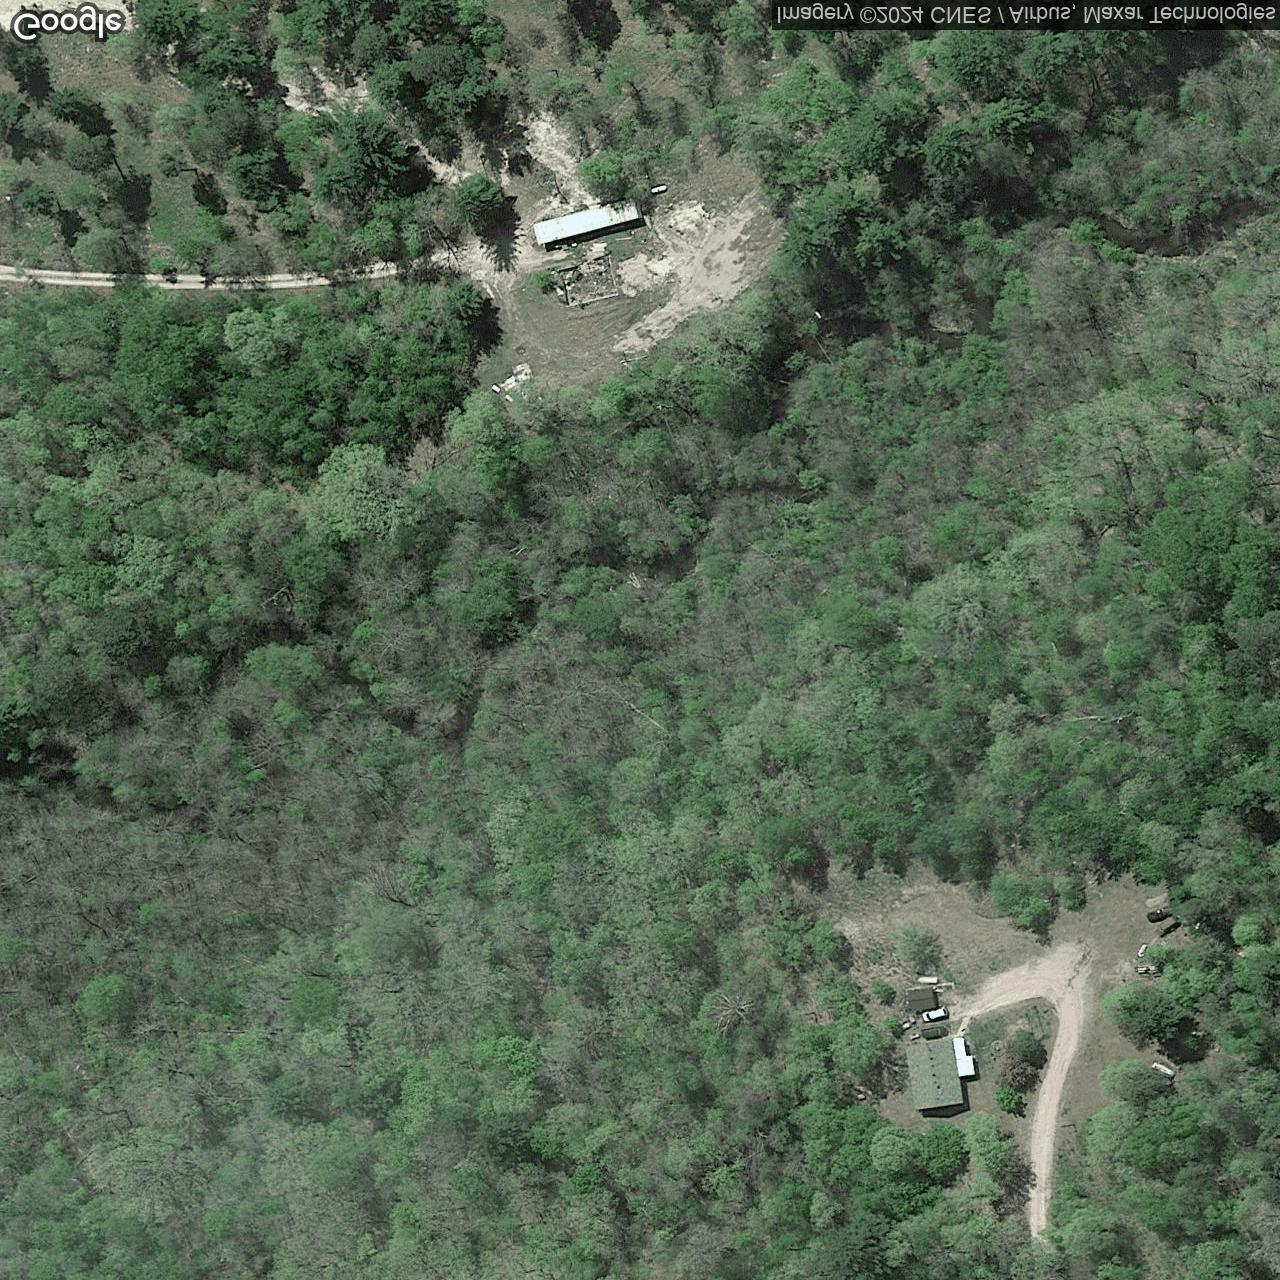House: (905, 1037, 964, 1111)
Propane: (648, 182, 670, 196), (914, 973, 939, 985)
Trailer: (532, 195, 641, 246)
